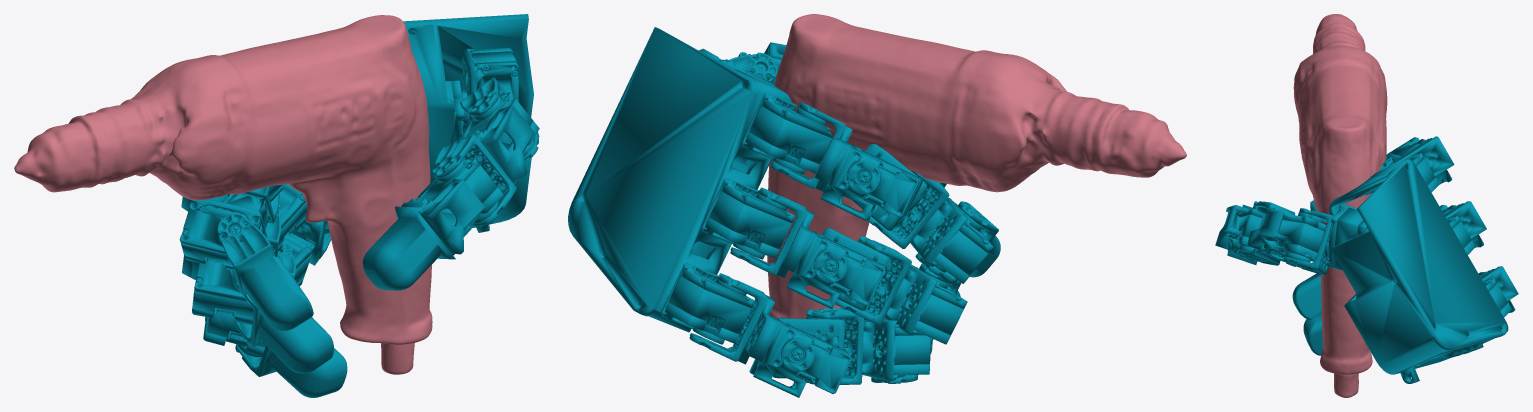
3 views of the same model, side by side, from view 1: azimuth 30°, elevation 25°; view 2: azimuth 150°, elevation 25°; view 3: azimuth 270°, elevation 25° (orthographic). The views are drawn at different scales.
Parts seen in each view (by area): view 1: world; view 2: world; view 3: world.
Part boxes in pixels (box(x1,y1,x2,y2)): world: box(14, 14, 539, 397); world: box(568, 14, 1186, 397); world: box(1215, 14, 1518, 397).
Size of the model in its own units: 0.3036 by 0.1832 by 0.1861.
